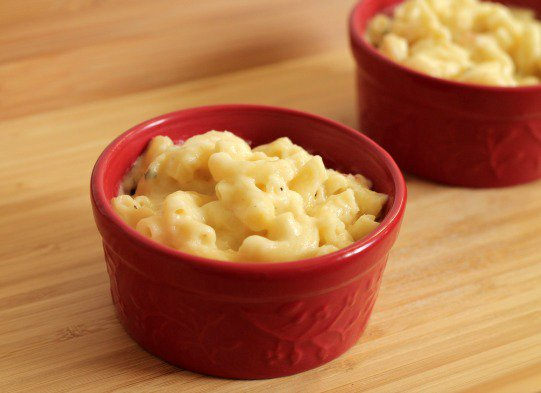macncheese: (110, 99, 386, 267), (353, 4, 541, 93)
